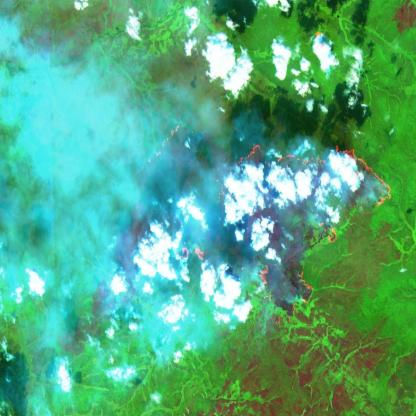fire: (143, 120, 396, 329)
